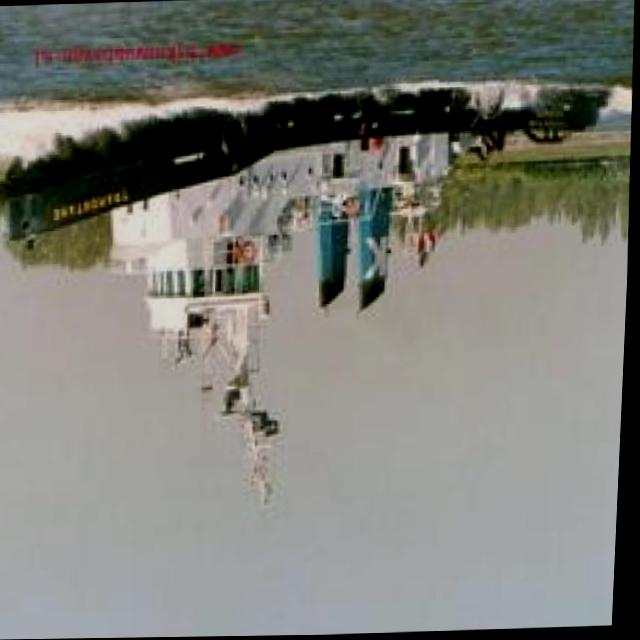ship2: (3, 84, 620, 512)
